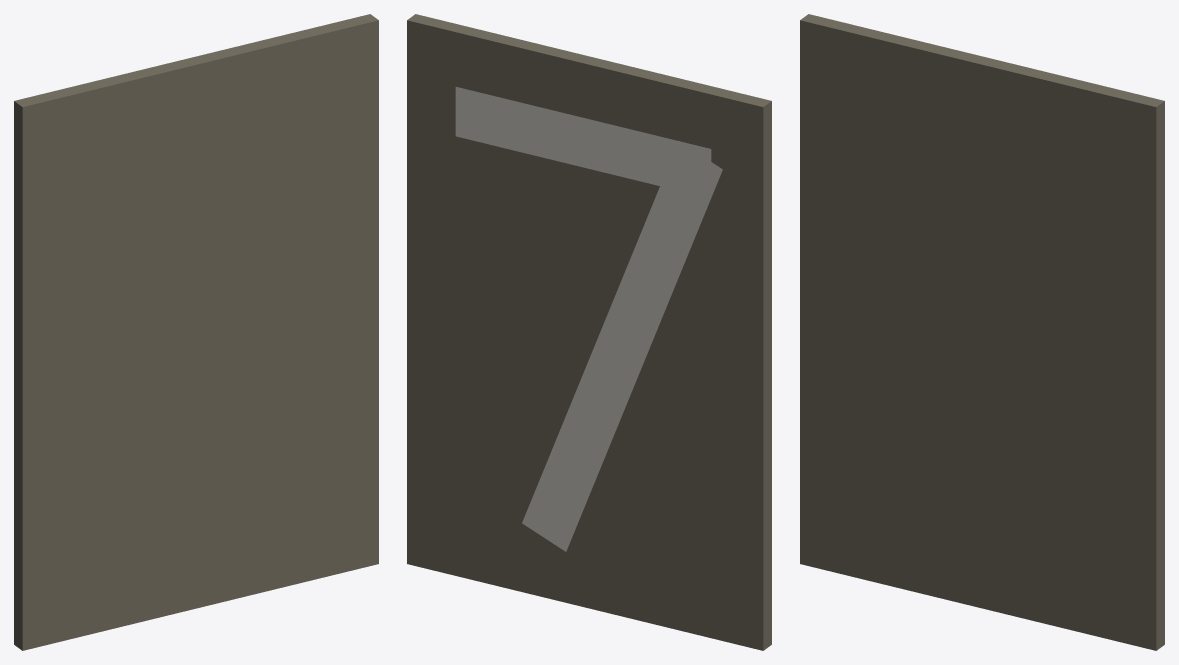
Rendered from stair_digit_7.glb.
3 renders of one model, left to right at view 1: azimuth 30°, elevation 25°; view 2: azimuth 150°, elevation 25°; view 3: azimuth 330°, elevation 25°, orthographic.
Parts seen in each view (by area): view 1: stair_digit_7; view 2: stair_digit_7; view 3: stair_digit_7.
Boxes of the visible parts, left/top/right/bottom form: stair_digit_7: left=14, top=14, right=378, bottom=650; stair_digit_7: left=407, top=14, right=771, bottom=650; stair_digit_7: left=800, top=14, right=1164, bottom=650.
Size of the model in its own units: 0.24 by 0.35 by 0.012.
Materials: 2 (2 with a texture image).
